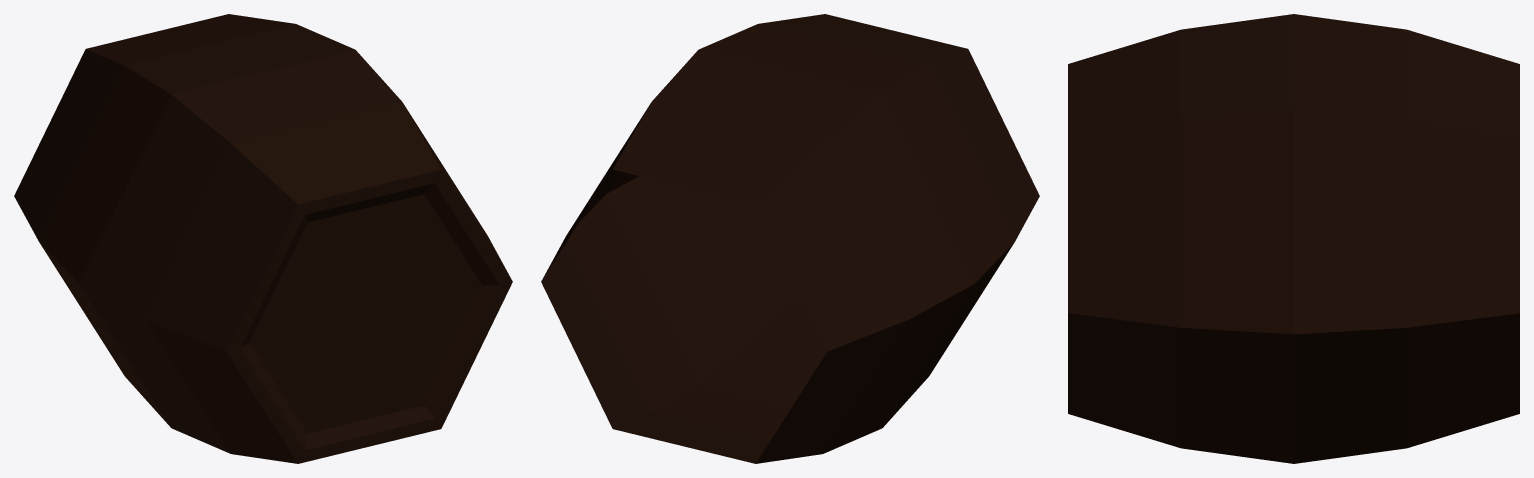
Rendered from BarrelExtra001.obj.
3 views of the same model, side by side, from view 1: azimuth 30°, elevation 25°; view 2: azimuth 150°, elevation 25°; view 3: azimuth 270°, elevation 25° (orthographic). The views are drawn at different scales.
Visible parts, largest first — view 1: Cylinder001; view 2: Cylinder001; view 3: Cylinder001.
Part boxes in pixels (box(x1,y1,x2,y2)): Cylinder001: box(14, 14, 512, 463); Cylinder001: box(541, 14, 1039, 463); Cylinder001: box(1068, 14, 1519, 463).
Size of the model in its own units: 32 by 27.71 by 32.
